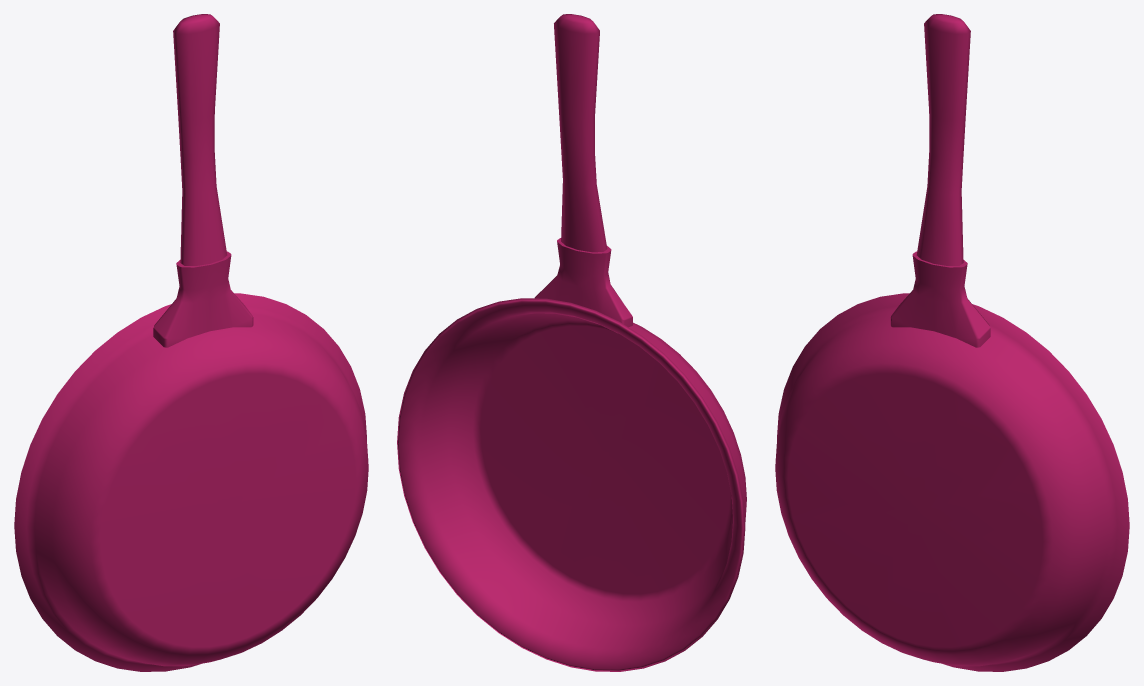
File: SM_Dishes_06.fbx
3 renders of one model, left to right at view 1: azimuth 30°, elevation 25°; view 2: azimuth 150°, elevation 25°; view 3: azimuth 330°, elevation 25°, orthographic.
Visible parts, largest first — view 1: SM_Dishes_06; view 2: SM_Dishes_06; view 3: SM_Dishes_06.
Boxes of the visible parts, bbox=[...] form: SM_Dishes_06: bbox=[14, 14, 368, 671]; SM_Dishes_06: bbox=[397, 14, 746, 671]; SM_Dishes_06: bbox=[775, 14, 1129, 671].
Bounding box in the file's own units: 30.15 × 53.44 × 5.92.
